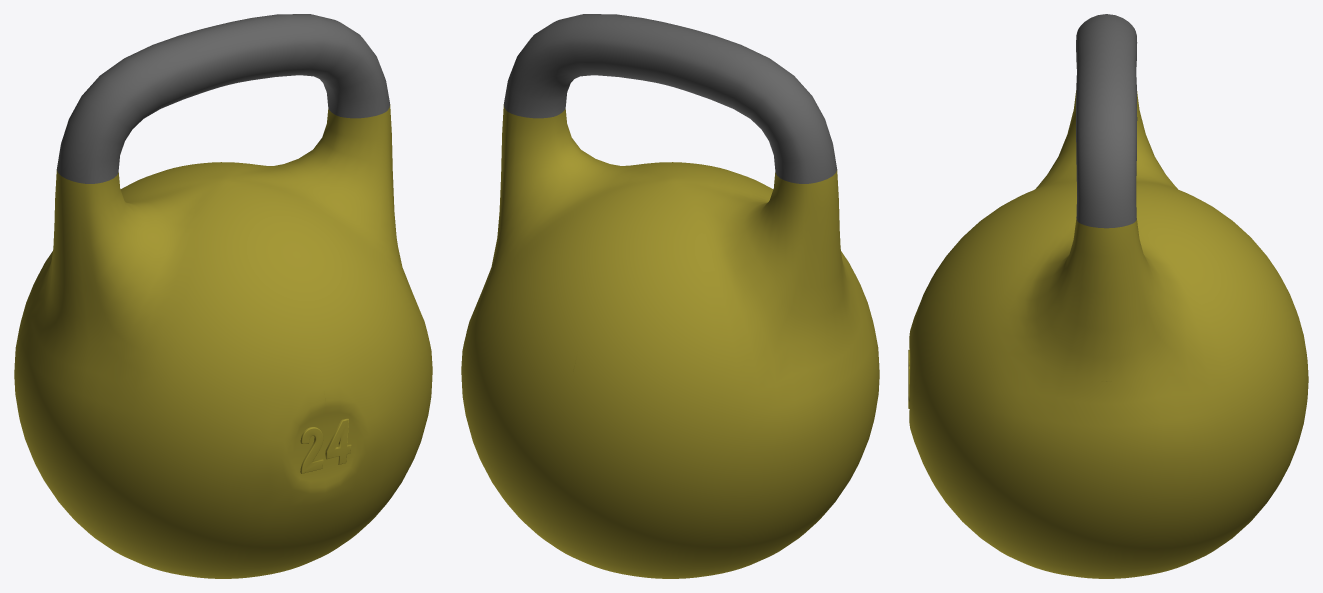
The picture shows the model from 3 angles, left to right: view 1: azimuth 30°, elevation 25°; view 2: azimuth 150°, elevation 25°; view 3: azimuth 270°, elevation 25°; orthographic projection. The views are drawn at different scales.
Visible parts, largest first — view 1: kettlebell_2, Object_7; view 2: kettlebell_2; view 3: kettlebell_2.
Part boxes in pixels (bbox=[...]): kettlebell_2: bbox=[14, 14, 432, 578]; Object_7: bbox=[300, 418, 351, 473]; kettlebell_2: bbox=[461, 14, 879, 578]; kettlebell_2: bbox=[909, 14, 1308, 578].
Size of the model in its own units: 3.22 by 4.38 by 3.19.
Materials: 3 (3 with a texture image).
